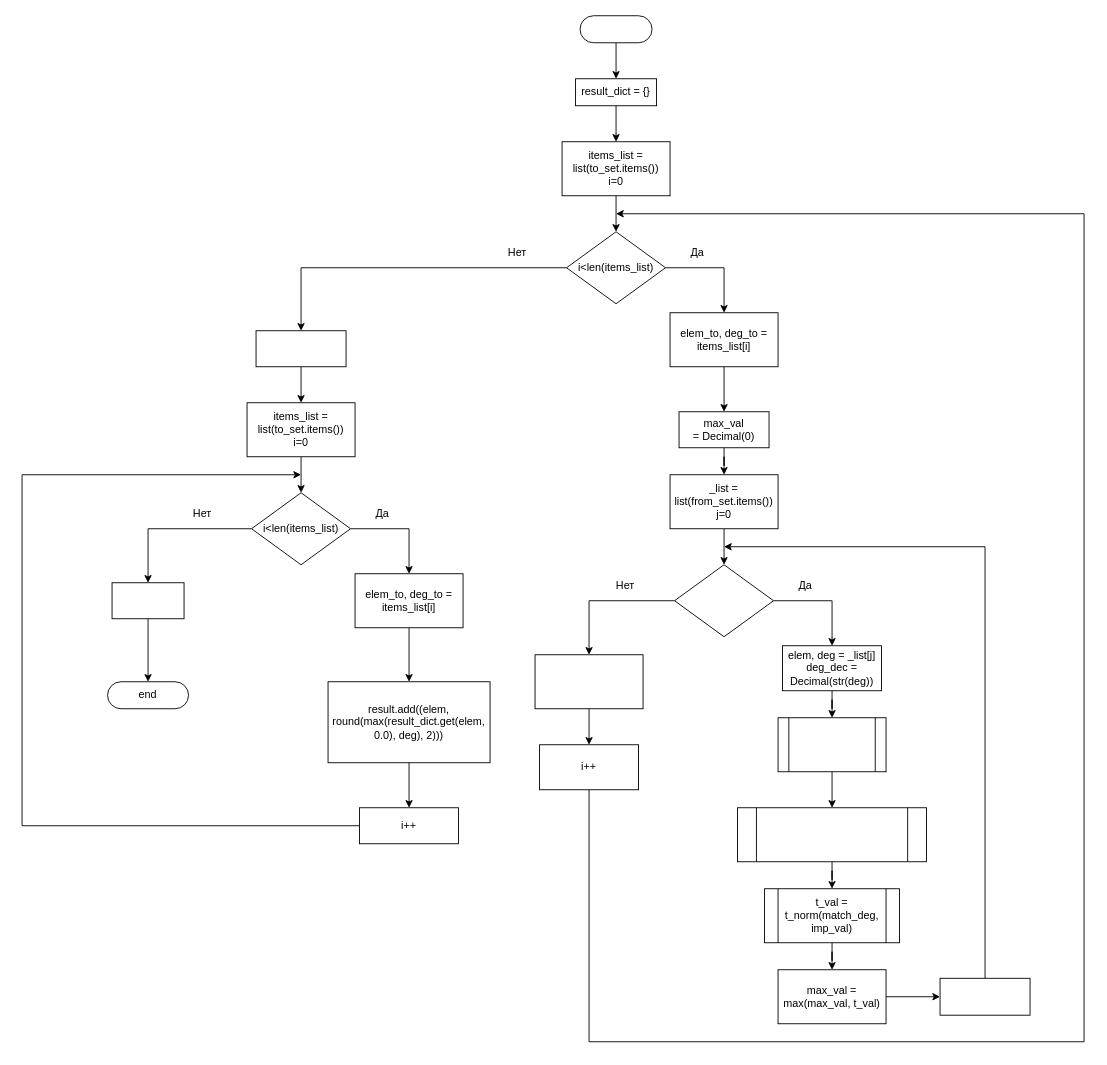
This 1107x1065 diagram has some shape labels left out. The shapes that lost their labels are listed below. From the top down, each one's centre as x and y in pixels, then its label:
(615,29): begin
(300,348): result:list=[]
(147,600): return result
(724,600): j<len(_list)
(588,681): result_dict[elem_to] = max_val
(831,744): imp_val = imp(deg_dec, deg_to)
(832,834): match_deg = _find_matching_degree(elem, match_set)
(984,996): j++
